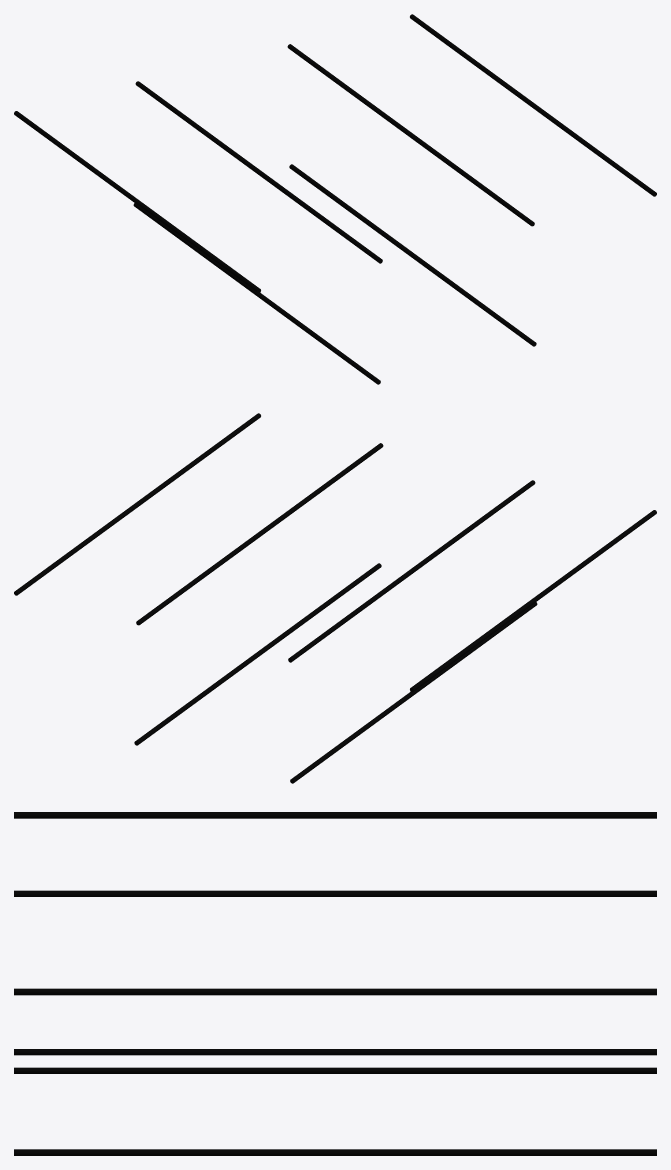
The model's file is cable.001_black_(all)_(matte)_0_lev3.glb.
3 renders of one model, top to bottom at view 1: azimuth 30°, elevation 25°; view 2: azimuth 150°, elevation 25°; view 3: azimuth 270°, elevation 25°, orthographic. The views are drawn at different scales.
Parts seen in each view (by area): view 1: cable.001_black_(all)_(matte)_0_lev3; view 2: cable.001_black_(all)_(matte)_0_lev3; view 3: cable.001_black_(all)_(matte)_0_lev3.
Boxes of the visible parts, x1,y1,x2,y2 form: cable.001_black_(all)_(matte)_0_lev3: (14,14,656,384); cable.001_black_(all)_(matte)_0_lev3: (14,413,656,783); cable.001_black_(all)_(matte)_0_lev3: (14,812,656,1155).
Size of the model in its own units: 1.45 by 0.4319 by 1.52.
Materials: 1 (1 with a texture image).
